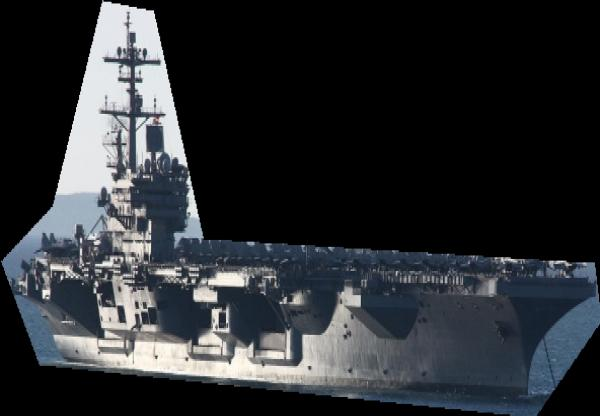Aircraft Carrier: (1, 0, 600, 416)
